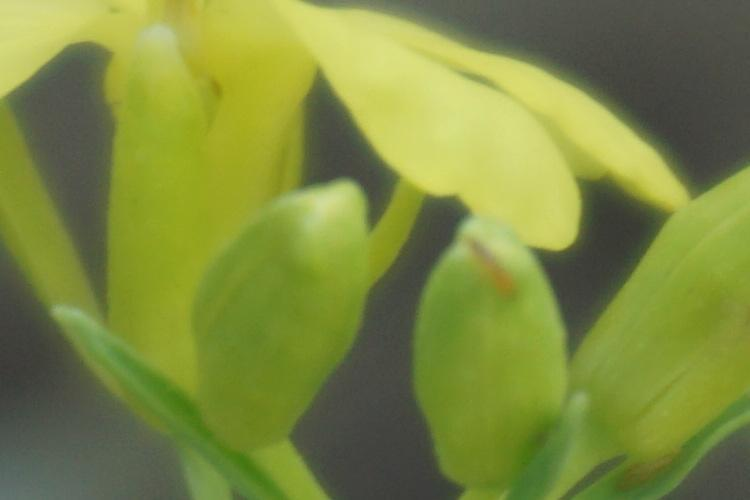bud: (408, 218, 588, 484), (215, 197, 372, 455)
